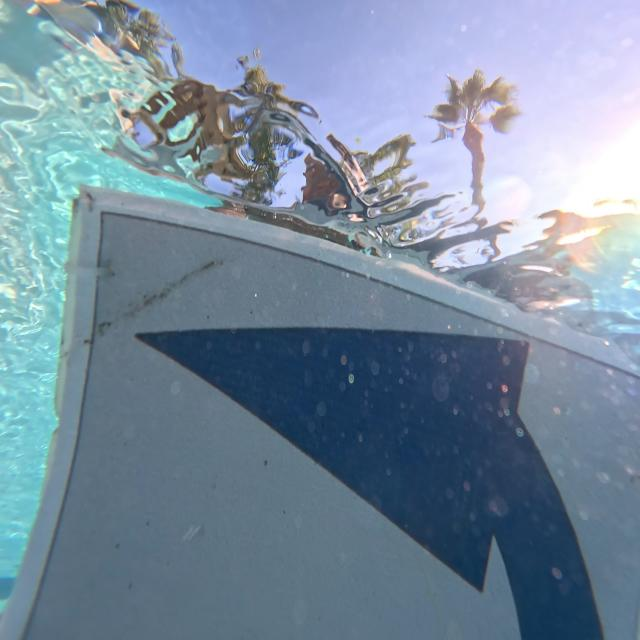blue_side: (11, 179, 640, 639)
